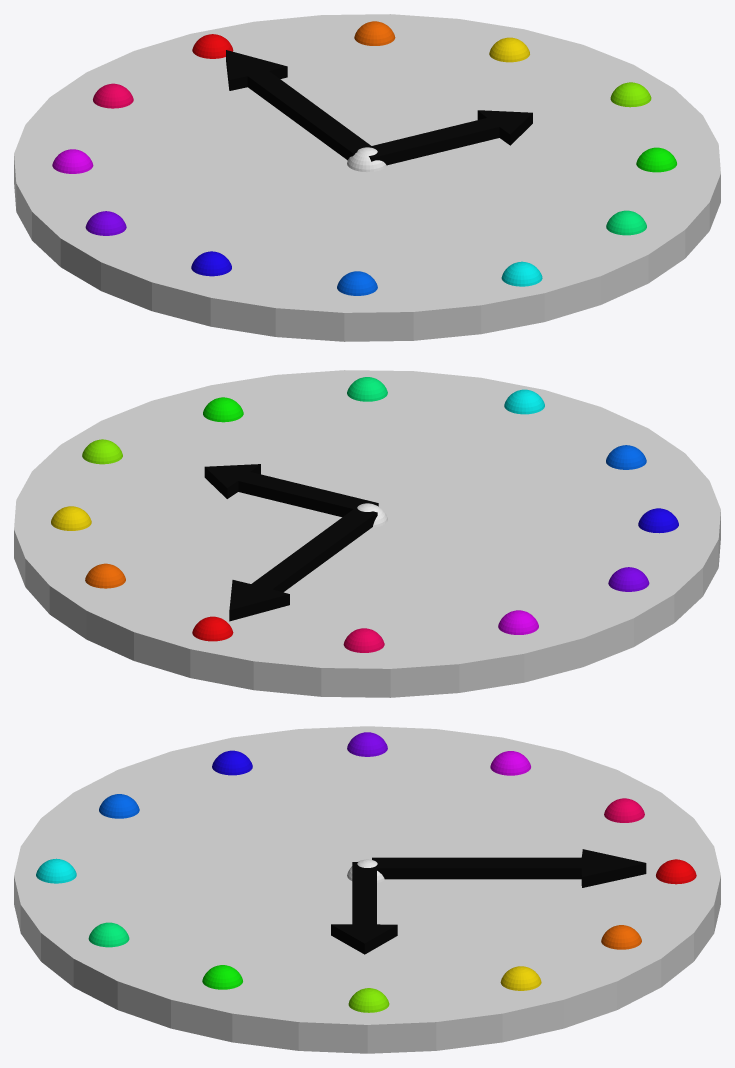
Rendered from clock.fbx.
3 renders of one model, top to bottom at view 1: azimuth 30°, elevation 25°; view 2: azimuth 150°, elevation 25°; view 3: azimuth 270°, elevation 25°, orthographic.
Parts seen in each view (by area): view 1: 실린더, 큐브, 큐브.001, 구체.008, 구체.011, 구체.012, 구체.003, 구체.006, 구체.010, 구체.005, 구체.002, 구체.001 (+4 smaller); view 2: 실린더, 큐브, 큐브.001, 구체.004, 구체.003, 구체.007, 구체.005, 구체.002, 구체.006, 구체.001, 구체.009, 구체.010 (+3 smaller); view 3: 실린더, 큐브, 큐브.001, 구체.012, 구체.001, 구체.008, 구체.003, 구체.006, 구체.007, 구체.009, 구체.011, 구체.005 (+3 smaller).
Boxes of the visible parts, bbox=[...] form: 실린더: bbox=[14, 14, 720, 341]; 큐브: bbox=[226, 50, 373, 160]; 큐브.001: bbox=[368, 110, 532, 165]; 구체.008: bbox=[93, 83, 133, 108]; 구체.011: bbox=[636, 147, 676, 172]; 구체.012: bbox=[606, 210, 646, 235]; 구체.003: bbox=[501, 261, 542, 286]; 구체.006: bbox=[191, 251, 231, 276]; 구체.010: bbox=[489, 37, 529, 62]; 구체.005: bbox=[337, 271, 377, 295]; 구체.002: bbox=[610, 82, 651, 107]; 구체.001: bbox=[85, 211, 126, 235]; 실린더: bbox=[14, 370, 720, 697]; 큐브: bbox=[229, 507, 377, 621]; 큐브.001: bbox=[204, 464, 378, 517]; 구체.004: bbox=[192, 616, 233, 641]; 구체.003: bbox=[504, 389, 544, 414]; 구체.007: bbox=[498, 610, 538, 634]; 구체.005: bbox=[606, 445, 646, 469]; 구체.002: bbox=[82, 439, 122, 464]; 구체.006: bbox=[638, 508, 678, 533]; 구체.001: bbox=[608, 567, 649, 591]; 구체.009: bbox=[85, 563, 125, 588]; 구체.010: bbox=[51, 506, 91, 530]; 실린더: bbox=[14, 726, 720, 1053]; 큐브: bbox=[372, 849, 646, 887]; 큐브.001: bbox=[331, 862, 397, 954]; 구체.012: bbox=[88, 922, 129, 947]; 구체.001: bbox=[347, 732, 387, 756]; 구체.008: bbox=[604, 798, 644, 822]; 구체.003: bbox=[36, 858, 76, 883]; 구체.006: bbox=[212, 750, 252, 775]; 구체.007: bbox=[490, 751, 530, 775]; 구체.009: bbox=[601, 925, 641, 949]; 구체.011: bbox=[202, 965, 242, 989]; 구체.005: bbox=[99, 794, 139, 818].
Size of the model in its own units: 377 by 25.3 by 377.
